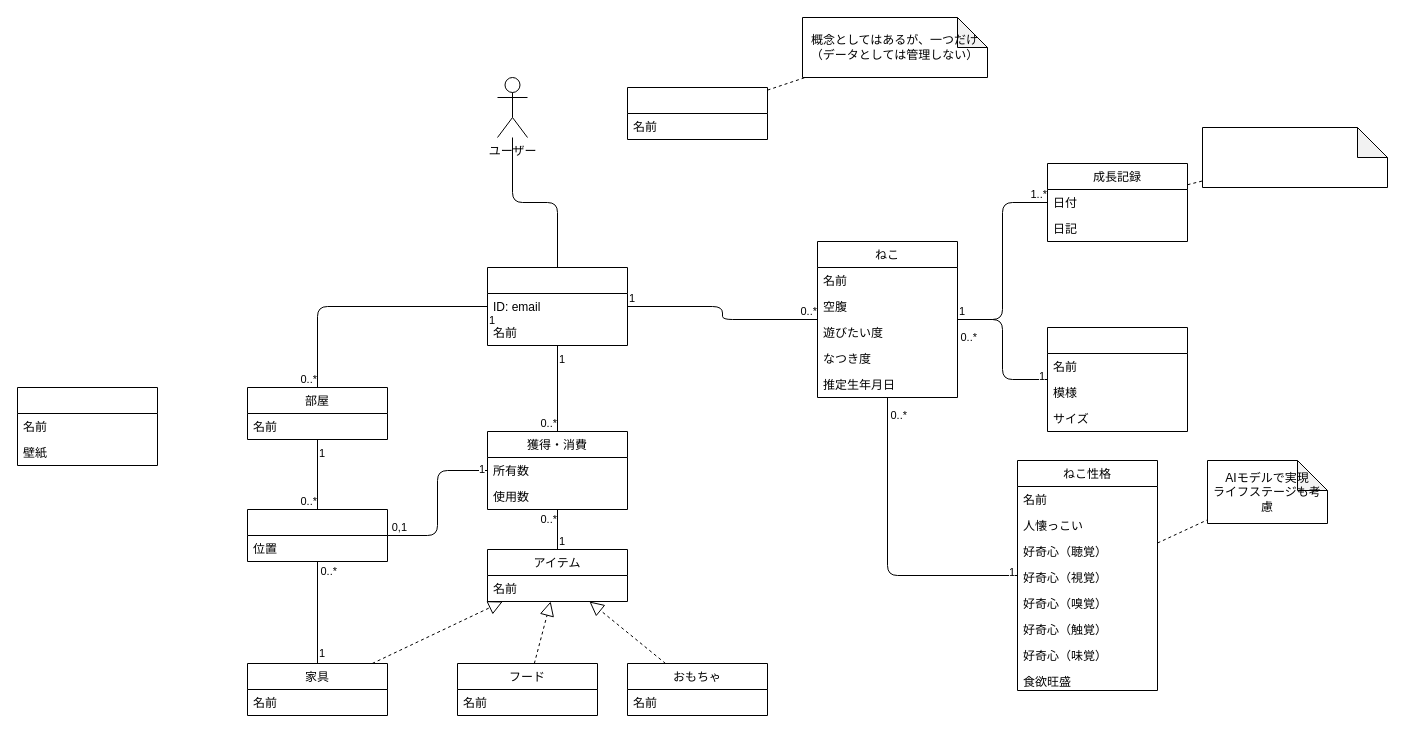
This 1405x736 diagram has some shape labels left out. The shapes that lost their labels are listed below. From the top down, each one's box as (x1, y1, x2, y2) in pixels, then its label:
(626, 86, 768, 140): 里親センター
(1202, 126, 1388, 188): スナップショット+日記
(486, 266, 628, 346): アカウント
(1046, 326, 1188, 432): ねこ種類
(16, 386, 158, 466): 部屋タイプ
(246, 508, 388, 562): 配置
